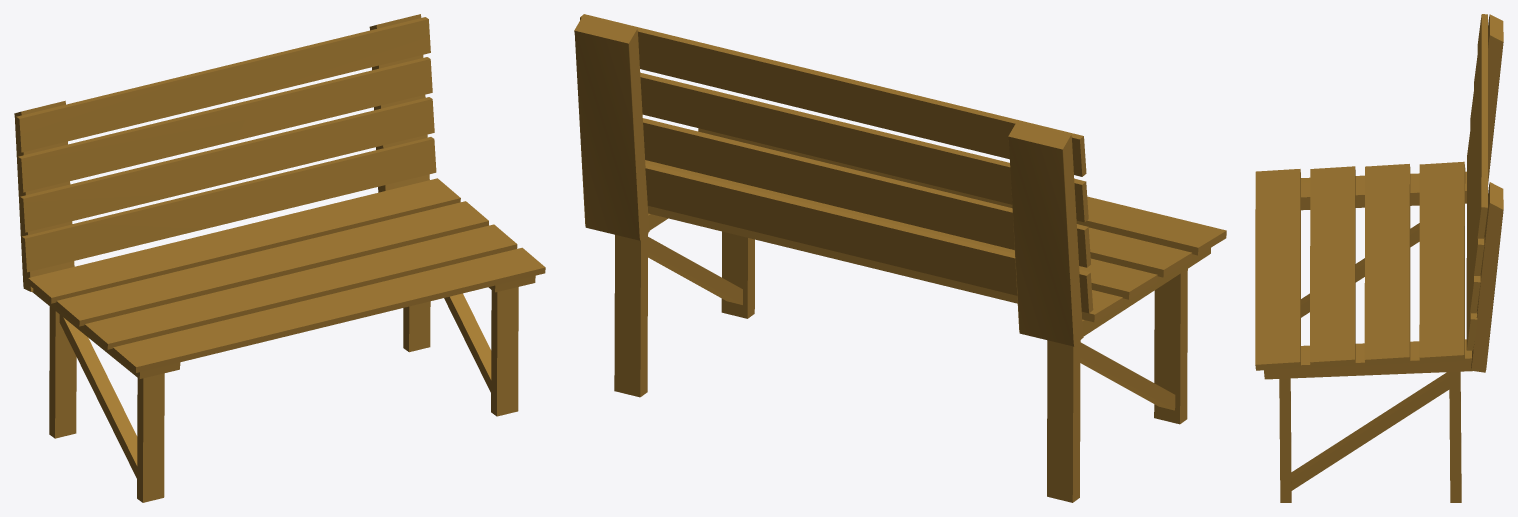
File: Banc1_LowPoly.FBX
3 renders of one model, left to right at view 1: azimuth 30°, elevation 25°; view 2: azimuth 150°, elevation 25°; view 3: azimuth 270°, elevation 25°, orthographic. The views are drawn at different scales.
Parts seen in each view (by area): view 1: Banc 1 High Poly001; view 2: Banc 1 High Poly001; view 3: Banc 1 High Poly001.
Part boxes in pixels (x1,y1,x2,y2): Banc 1 High Poly001: [14, 14, 545, 502]; Banc 1 High Poly001: [574, 14, 1226, 502]; Banc 1 High Poly001: [1255, 14, 1503, 502].
Bounding box in the file's own units: 147 × 108 × 79.58.
